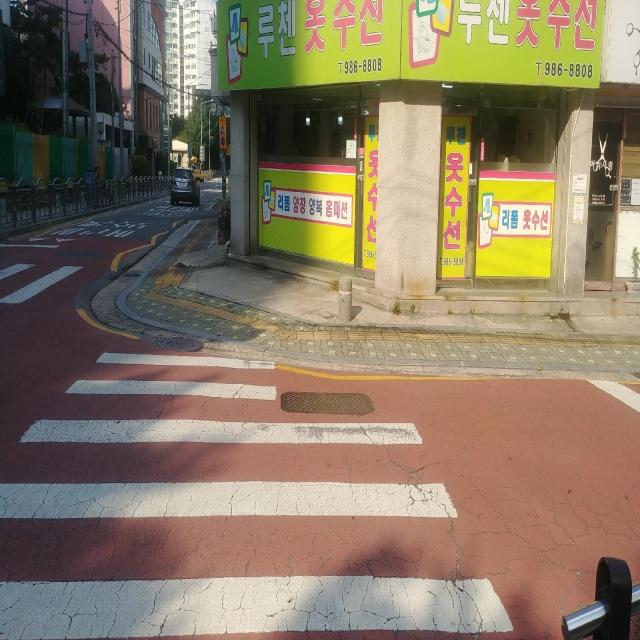횡단보도: (0, 351, 514, 639), (0, 257, 76, 308)
